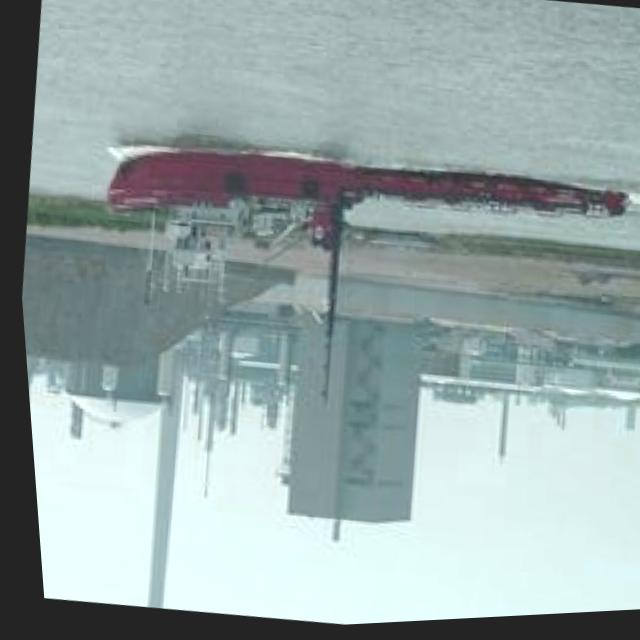ship2: (103, 152, 629, 410)
